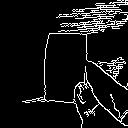cube: (33, 28, 97, 105)
